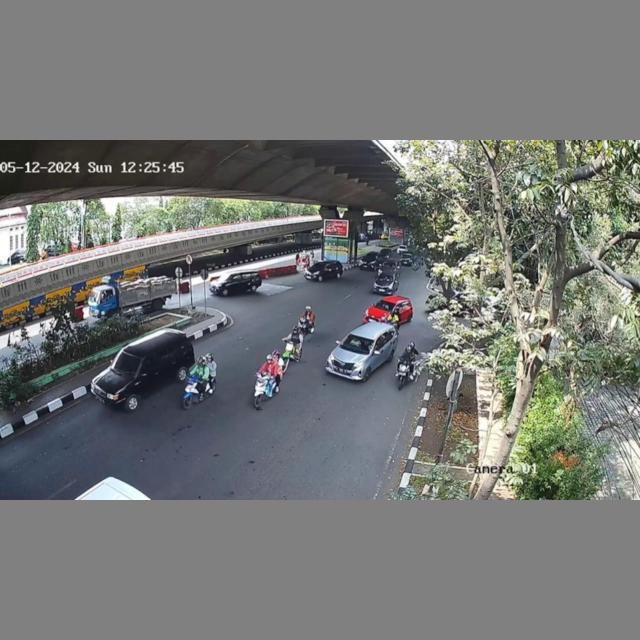windshield: (110, 349, 146, 378), (341, 333, 374, 356)
